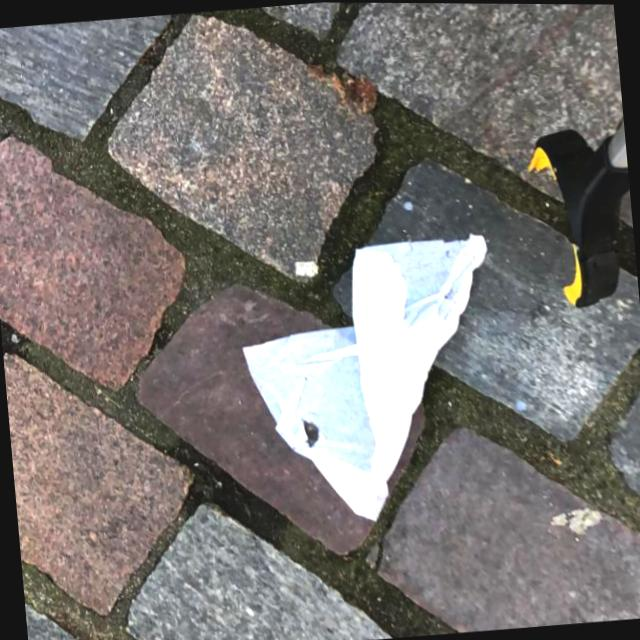Paper: (228, 228, 512, 533)
